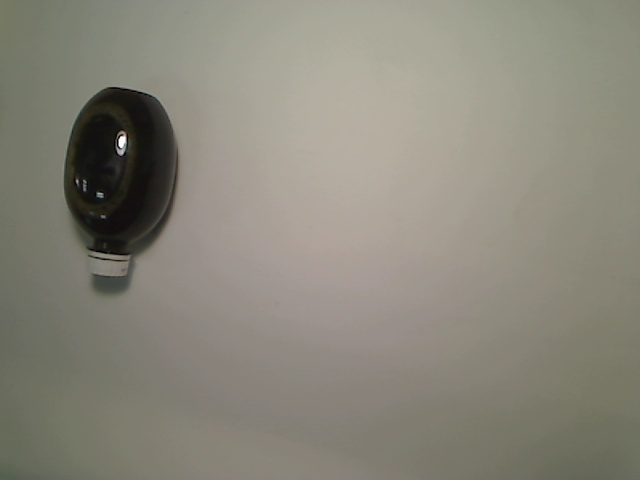plast_bottle: (60, 84, 182, 280)
